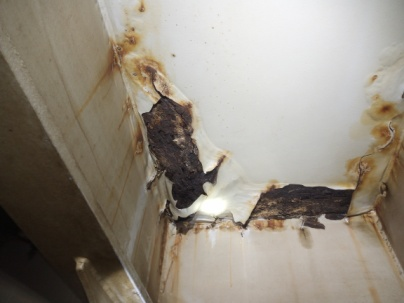corrosion: (131, 100, 231, 205), (252, 178, 353, 233), (359, 71, 404, 161), (115, 59, 181, 101), (102, 18, 151, 60), (162, 209, 234, 237), (156, 241, 192, 294), (342, 153, 384, 185)
